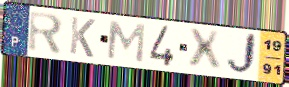4: (148, 25, 176, 68)
J: (224, 31, 259, 77)
K: (68, 15, 98, 60)
M: (105, 19, 147, 65)
R: (27, 9, 65, 57)
X: (187, 27, 224, 73)
